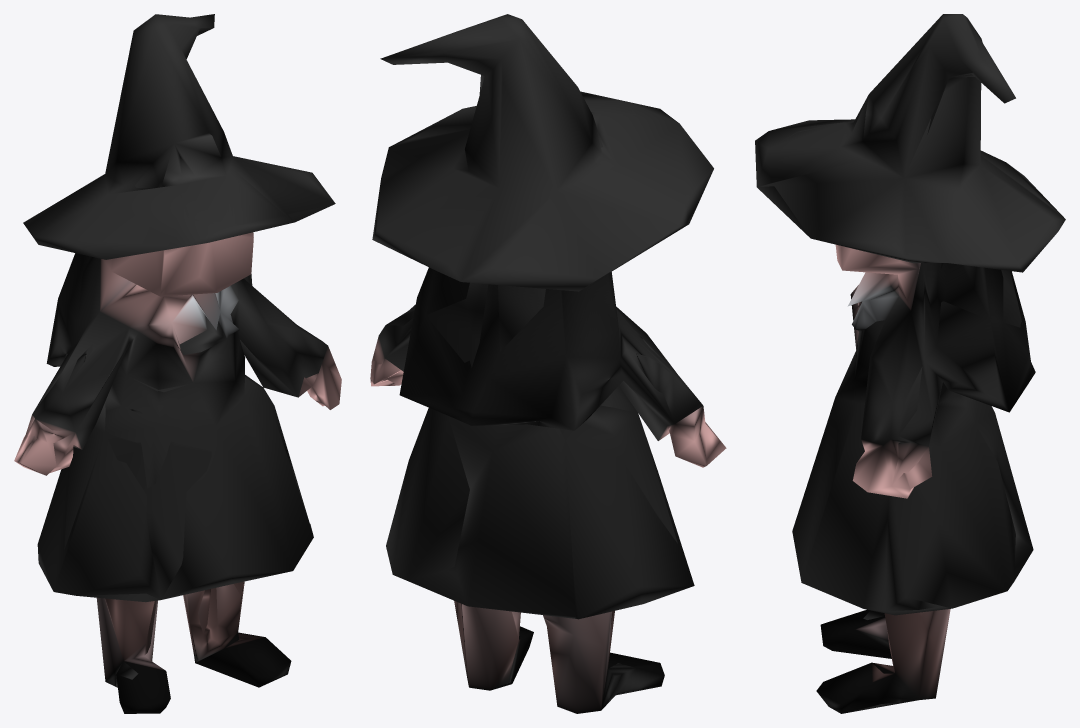
File: gen3d-witch-lod1.glb
3 renders of one model, left to right at view 1: azimuth 30°, elevation 25°; view 2: azimuth 150°, elevation 25°; view 3: azimuth 270°, elevation 25°, orthographic. The views are drawn at different scales.
Parts seen in each view (by area): view 1: part_0; view 2: part_0; view 3: part_0.
Boxes of the visible parts, bbox=[...] form: part_0: bbox=[14, 14, 341, 713]; part_0: bbox=[370, 14, 726, 713]; part_0: bbox=[755, 14, 1065, 713].
Size of the model in its own units: 0.5321 by 0.9997 by 0.4243.
